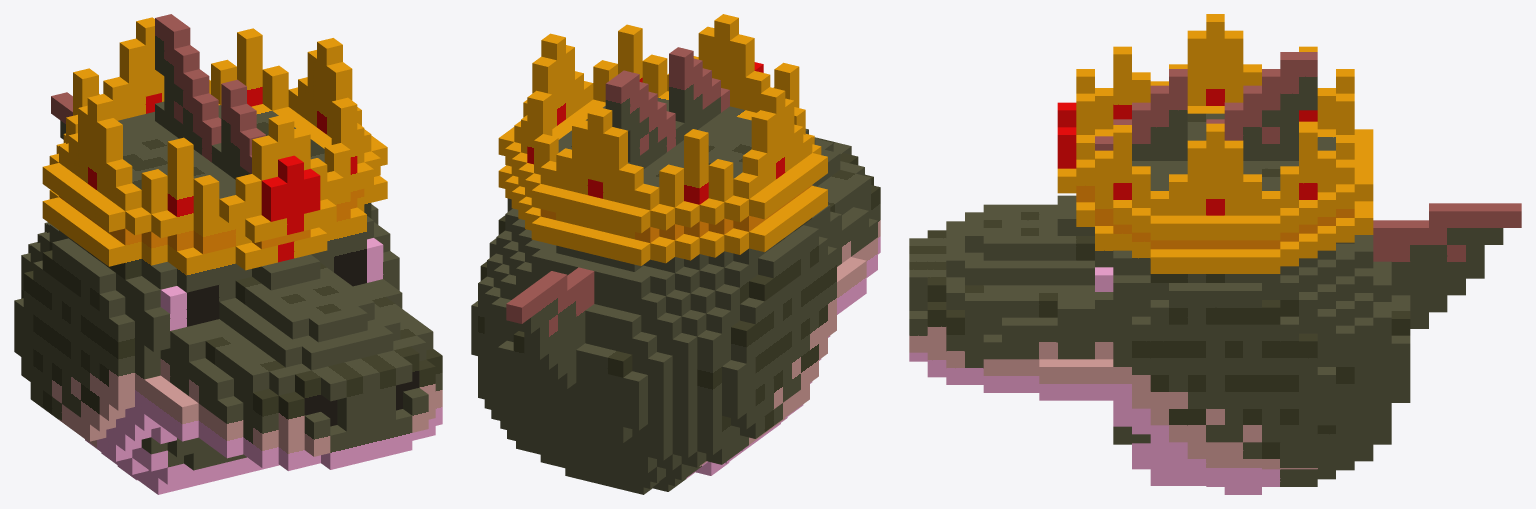
File: king crown_eye patch.gltf
3 views of the same model, side by side, from view 1: azimuth 30°, elevation 25°; view 2: azimuth 150°, elevation 25°; view 3: azimuth 270°, elevation 25° (orthographic). The views are drawn at different scales.
Visible parts, largest first — view 1: C33_H_KingCrown_Skydiving_EyePatch-Mesh; view 2: C33_H_KingCrown_Skydiving_EyePatch-Mesh; view 3: C33_H_KingCrown_Skydiving_EyePatch-Mesh.
Part boxes in pixels (box(x1,y1,x2,y2)): C33_H_KingCrown_Skydiving_EyePatch-Mesh: box(14, 14, 442, 494); C33_H_KingCrown_Skydiving_EyePatch-Mesh: box(471, 14, 880, 494); C33_H_KingCrown_Skydiving_EyePatch-Mesh: box(909, 14, 1521, 494).
Size of the model in its own units: 17 by 24 by 33.
1 material, 1 textured.
